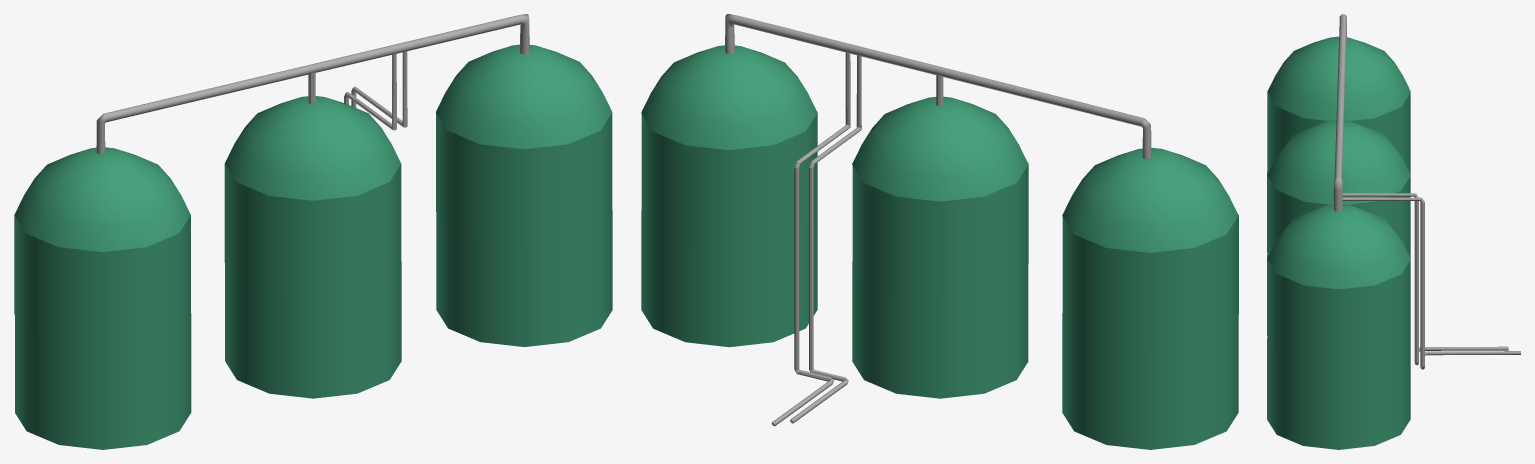
File: bio_mass.fbx
3 views of the same model, side by side, from view 1: azimuth 30°, elevation 25°; view 2: azimuth 150°, elevation 25°; view 3: azimuth 270°, elevation 25° (orthographic). The views are drawn at different scales.
Visible parts, largest first — view 1: bio_mass; view 2: bio_mass; view 3: bio_mass.
Boxes of the visible parts, box(x1,y1,x2,y2) form: bio_mass: box(14, 14, 612, 449); bio_mass: box(641, 14, 1238, 449); bio_mass: box(1267, 14, 1520, 449).
Bounding box in the file's own units: 506 × 249 × 238.
